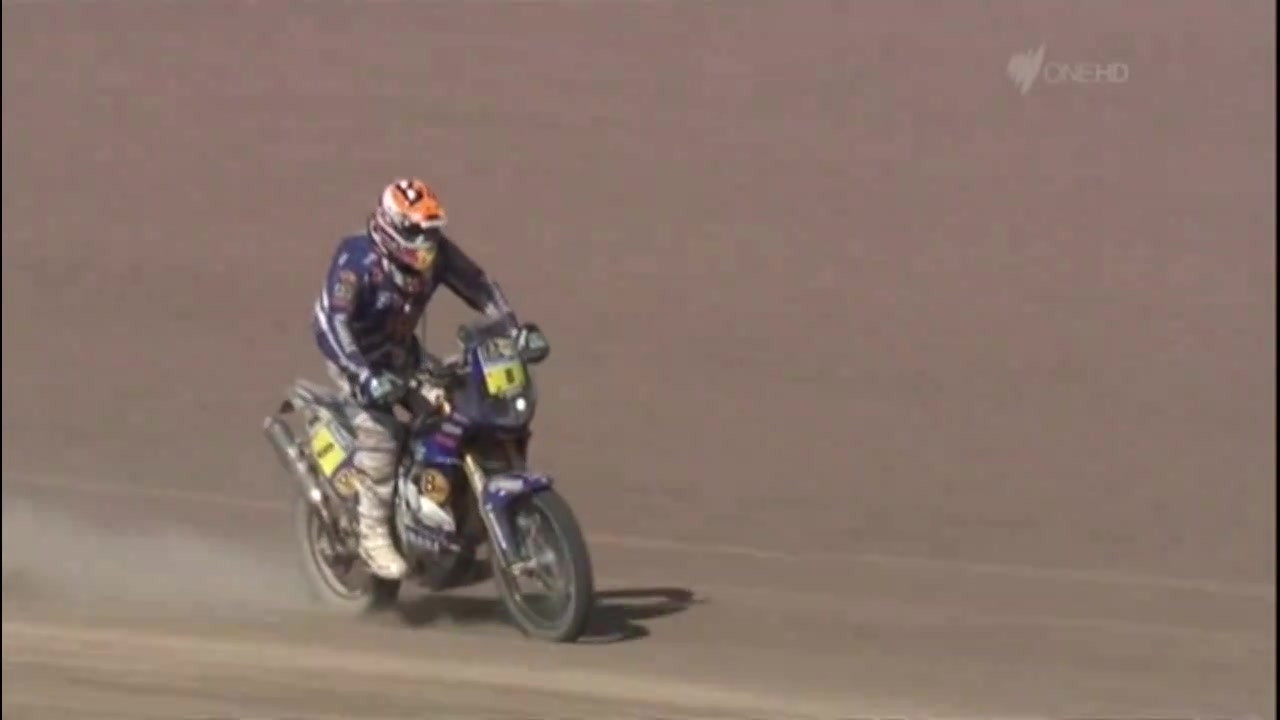motorbike: (256, 316, 599, 650)
